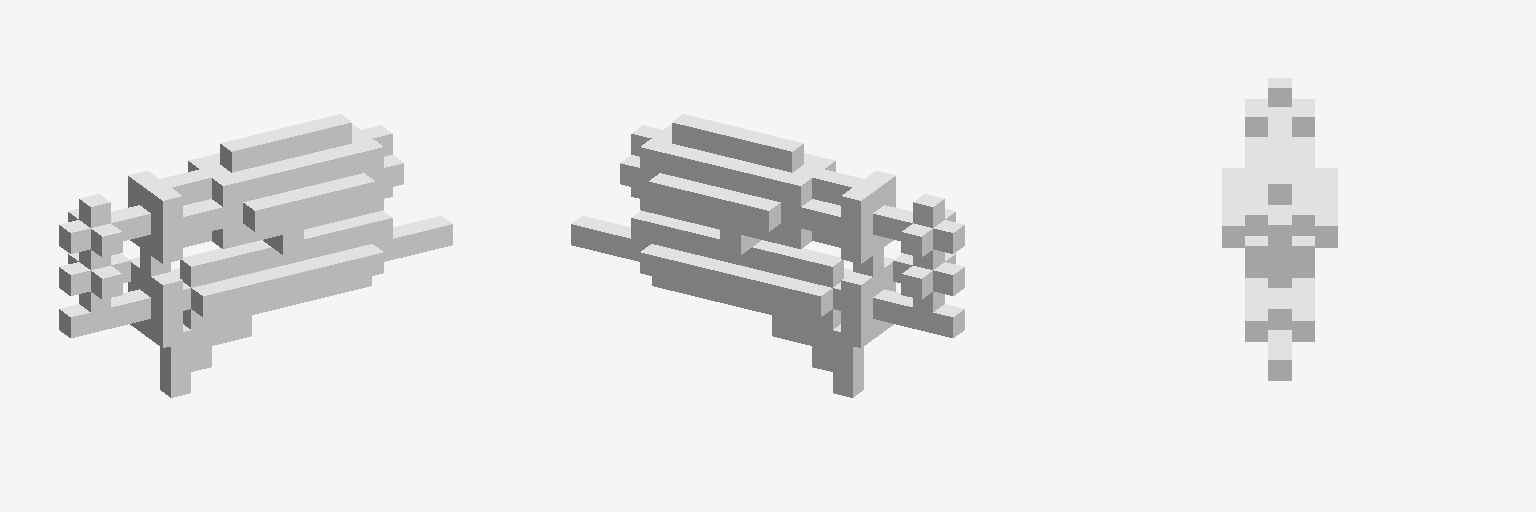
Rendered from WaterGun.obj.
The picture shows the model from 3 angles: view 1: azimuth 30°, elevation 25°; view 2: azimuth 150°, elevation 25°; view 3: azimuth 270°, elevation 25°; orthographic projection.
Parts seen in each view (by area): view 1: object 1; view 2: object 1; view 3: object 1.
Part boxes in pixels (left/top/right/bottom): object 1: left=59, top=114, right=452, bottom=397; object 1: left=571, top=114, right=964, bottom=397; object 1: left=1222, top=78, right=1337, bottom=380.
Size of the model in its own units: 1.9 by 1.1 by 0.5.